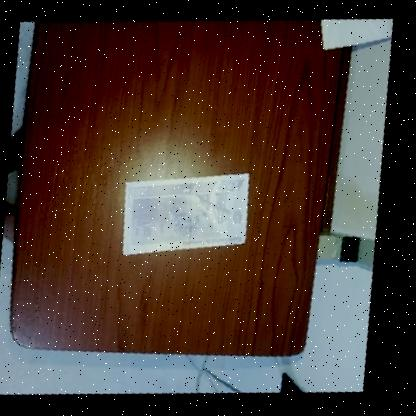two_hundred-back-vef: (113, 158, 263, 269)
